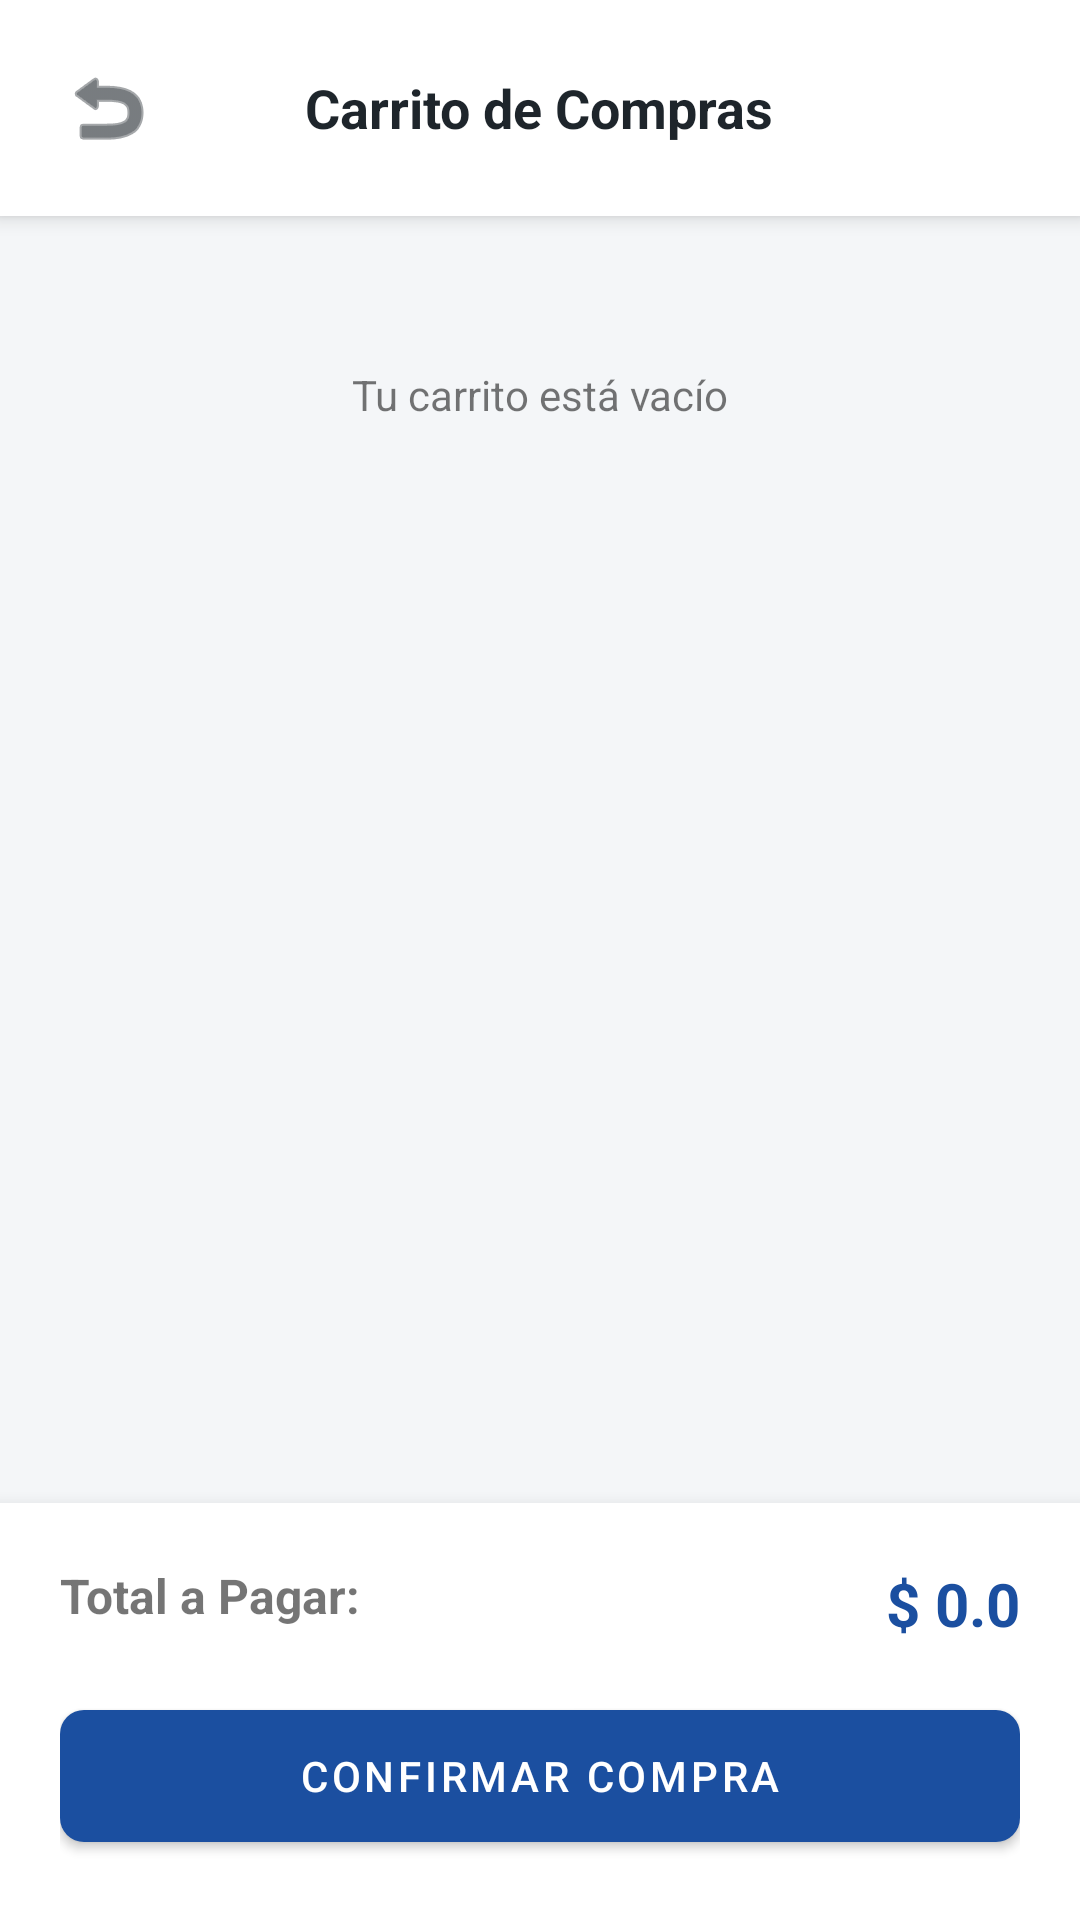

Icons on this 1080w x 1920h Android screen, each with its box as (x1, y1, x2, y2):
revert: (75, 77, 144, 140)
